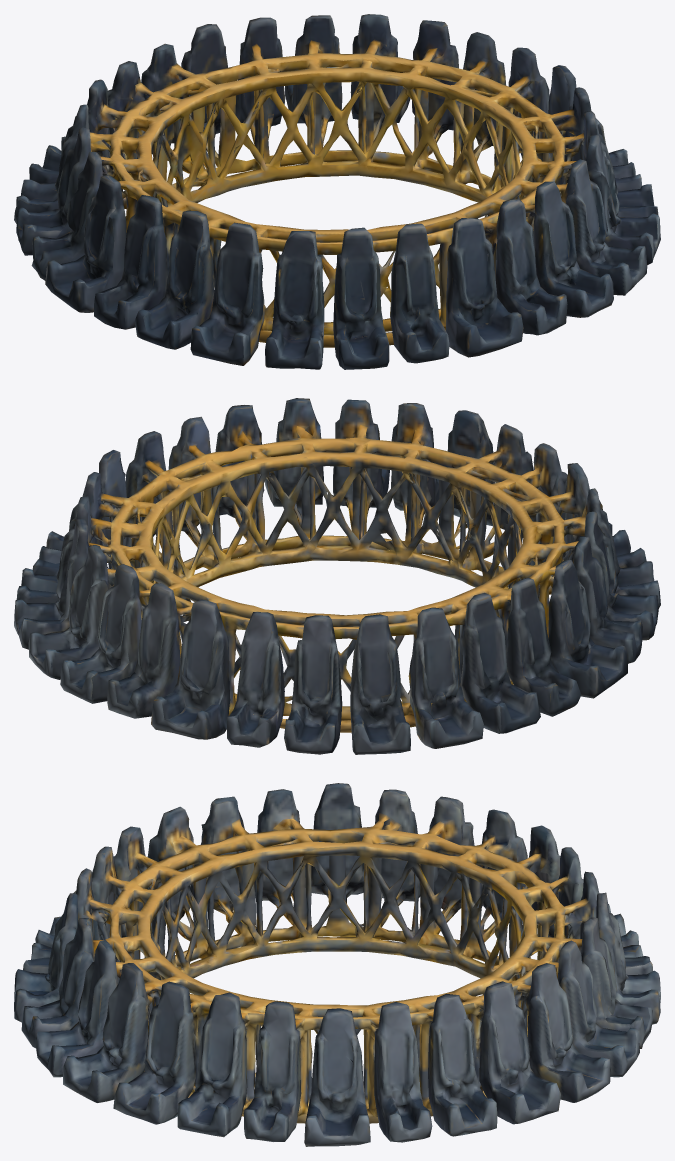
File: 롯데_자이로원반.glb
3 views of the same model, one above another, from view 1: azimuth 30°, elevation 25°; view 2: azimuth 150°, elevation 25°; view 3: azimuth 270°, elevation 25° (orthographic).
Visible parts, largest first — view 1: texture_mapping; view 2: texture_mapping; view 3: texture_mapping.
Part boxes in pixels (x1,y1,x2,y2): texture_mapping: (14, 14, 660, 369); texture_mapping: (14, 398, 660, 754); texture_mapping: (14, 783, 660, 1146).
Size of the model in its own units: 1 by 0.2332 by 1.
1 material, 1 textured.
